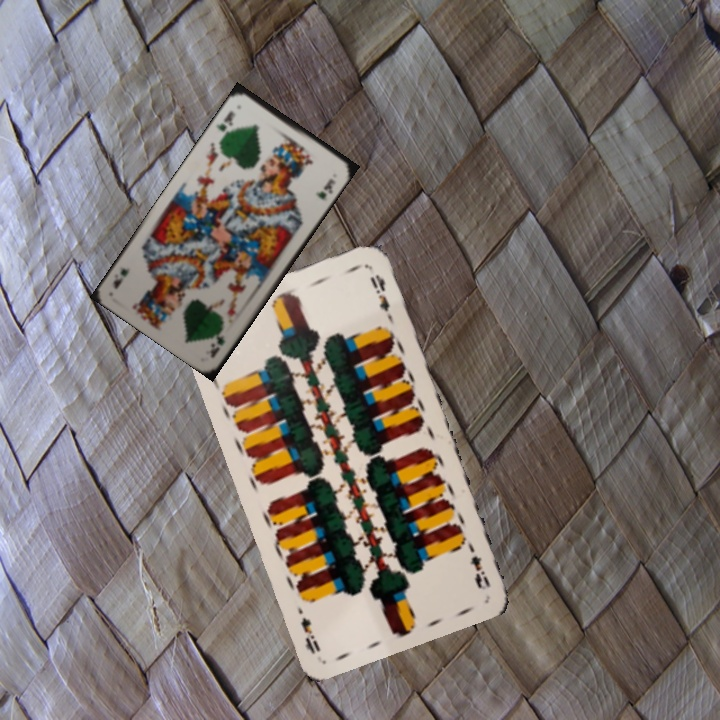E9: (459, 538, 493, 593)
GK: (212, 106, 238, 140), (206, 331, 228, 361)
